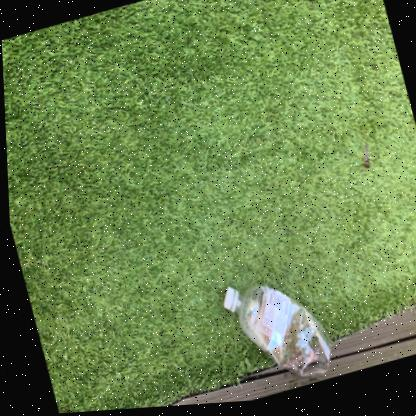Plastic: (219, 290, 327, 381)
